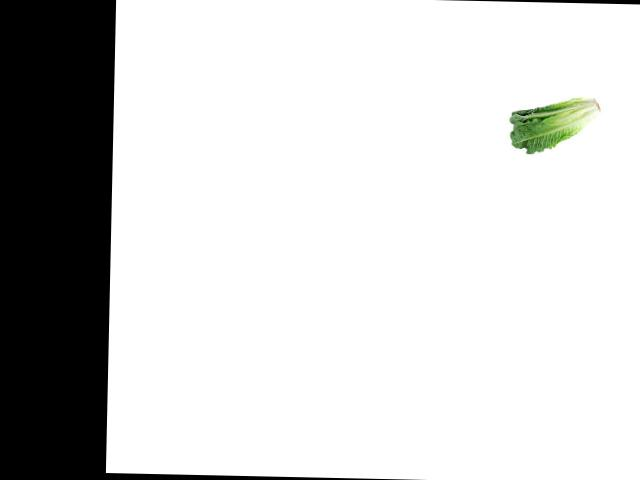lettuce: (506, 93, 606, 154)
